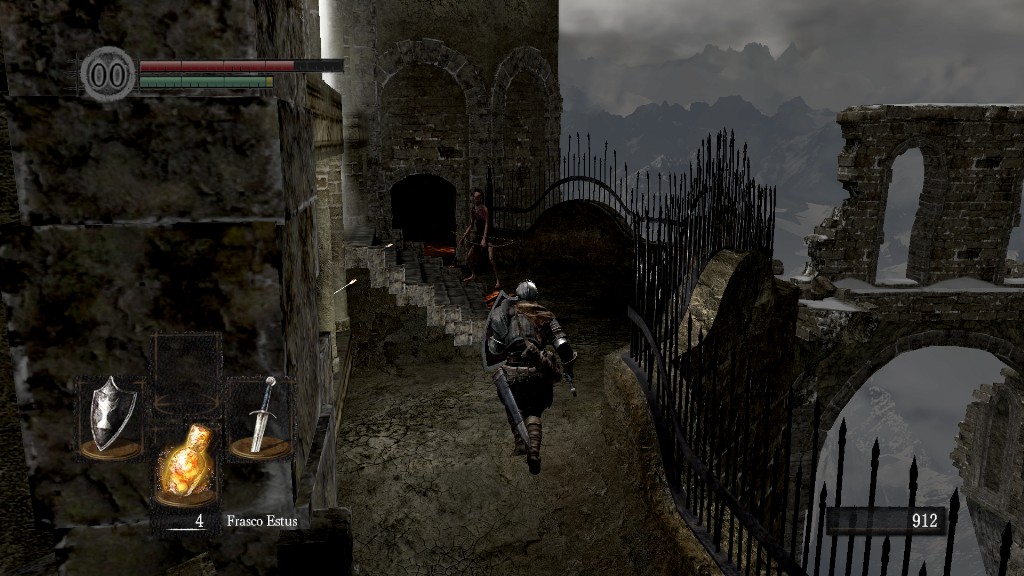health: (138, 58, 343, 71)
hollow: (450, 191, 498, 292)
humanity: (80, 45, 136, 102)
player: (480, 280, 580, 477)
souls: (825, 506, 945, 536)
stamina: (138, 74, 274, 88)
